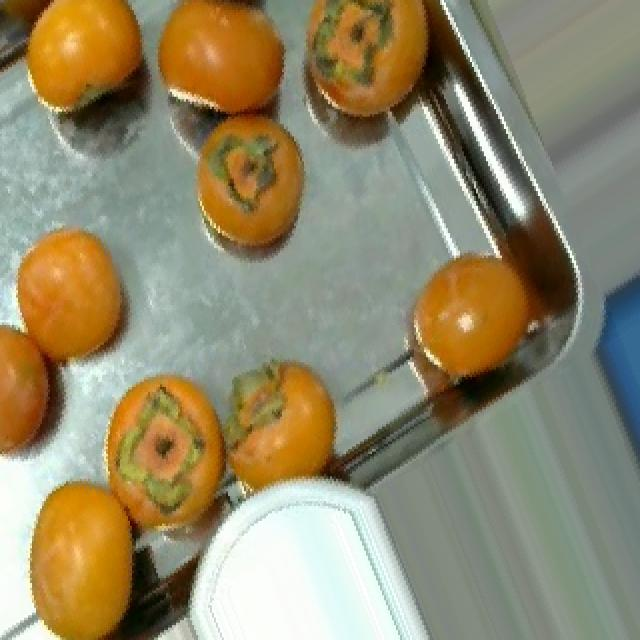Fruit: (390, 223, 580, 424), (286, 0, 470, 186), (178, 92, 332, 288), (210, 337, 362, 526), (0, 206, 150, 389), (10, 456, 142, 640), (142, 0, 306, 144), (4, 0, 162, 131), (0, 305, 98, 484)
